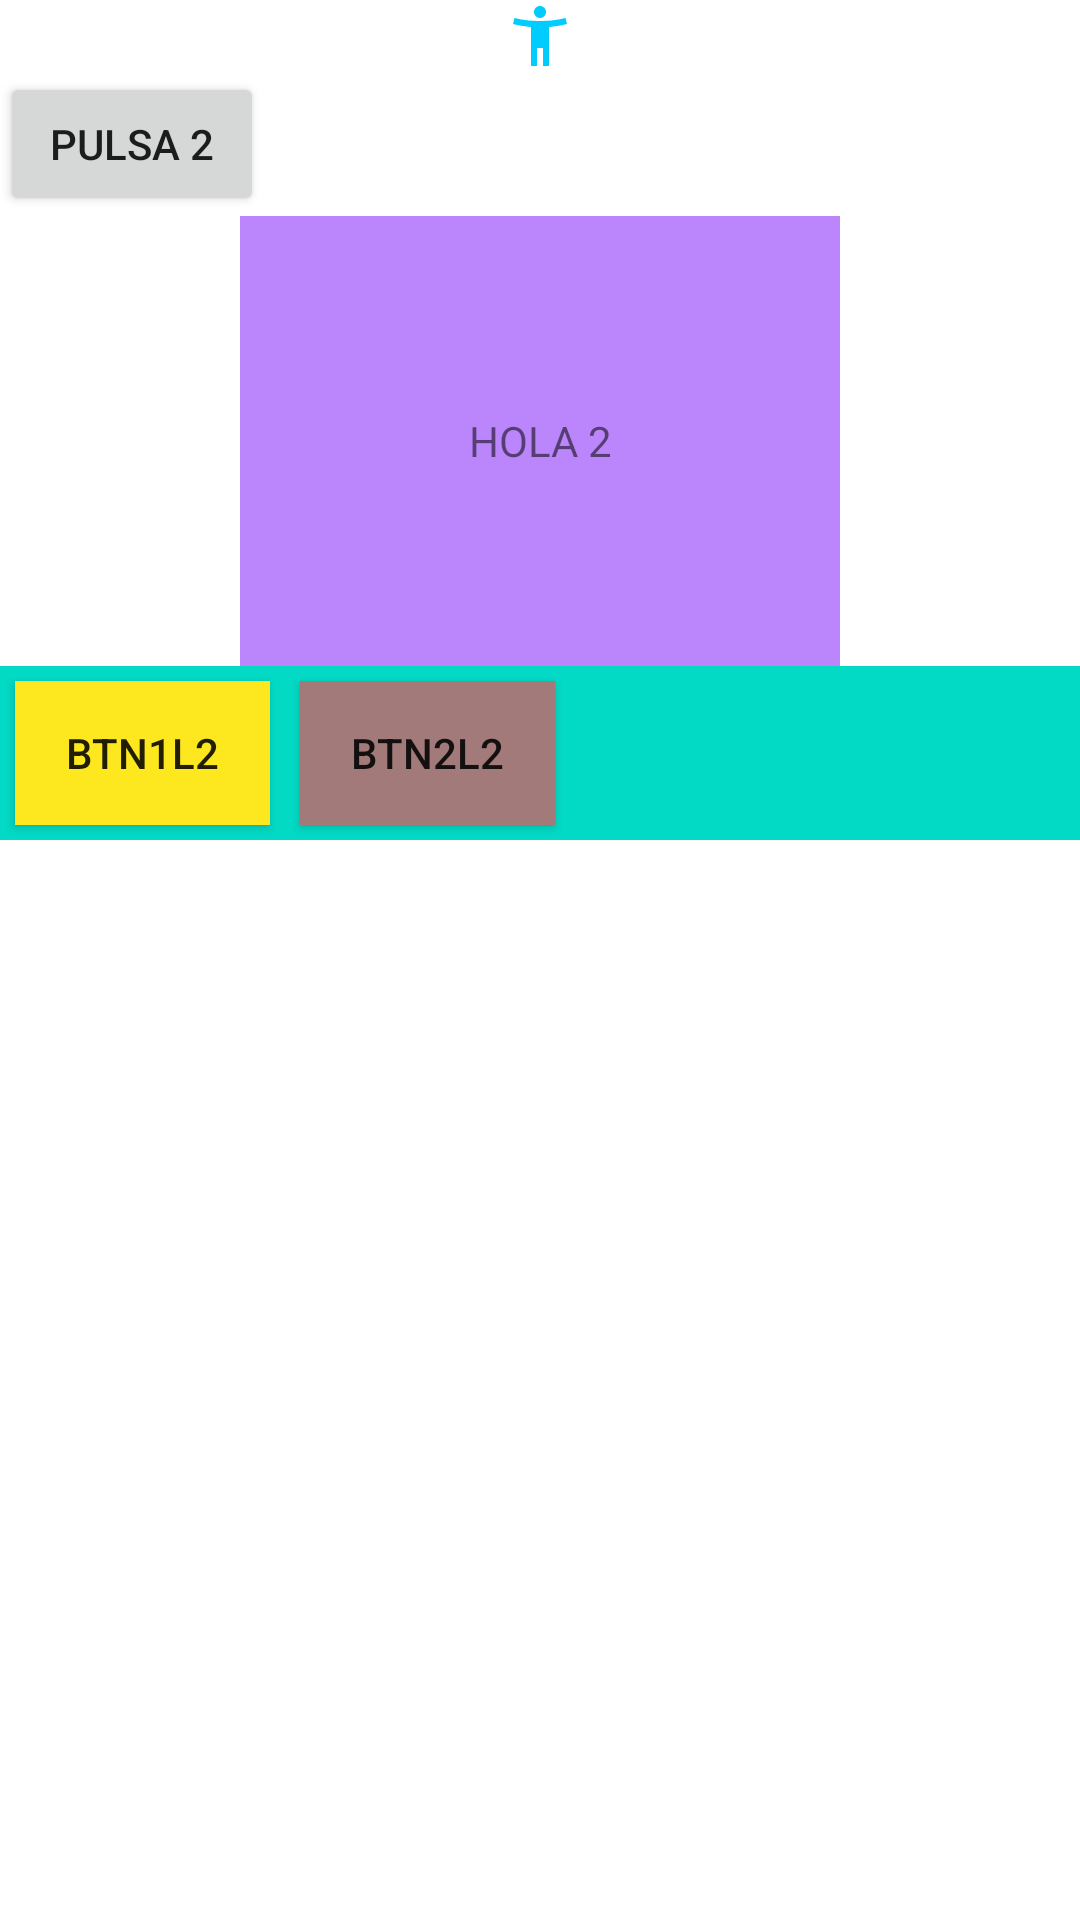

Named icons in this screenshot (1080px x 1920px) and their bounding boxes, [x1=x1, y1=y1, x2=x2, y2=y2]:
persona: [x1=513, y1=6, x2=567, y2=66]
